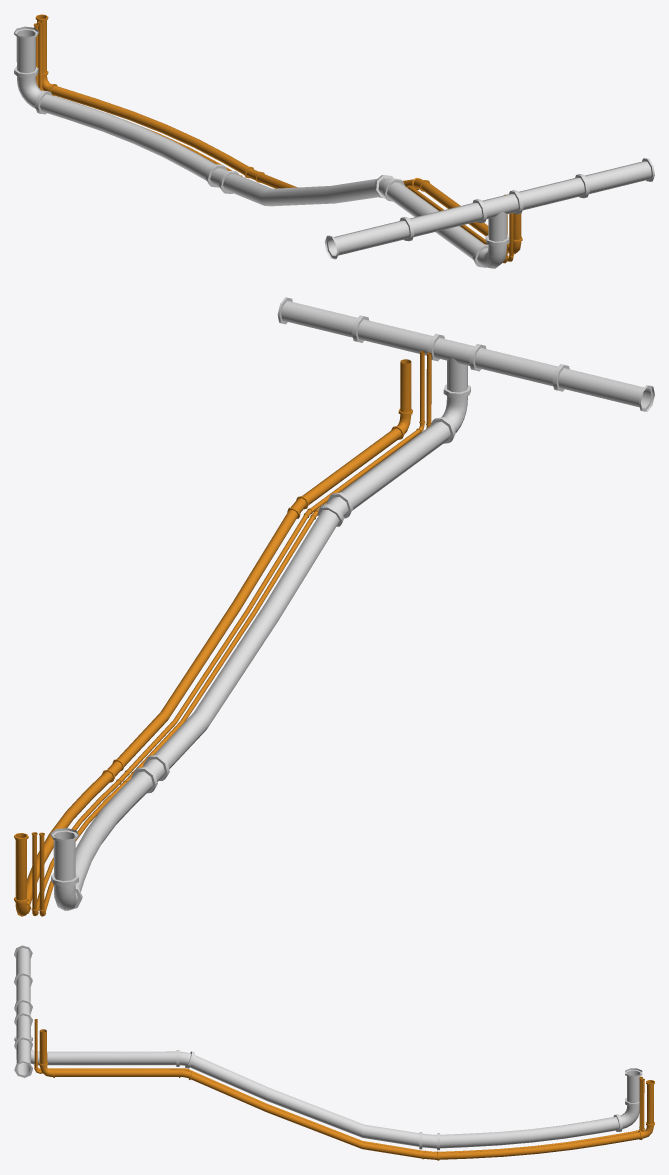
The model's file is SM_H_Building_Tide_Waterway_09c_ATLAS.fbx.
3 renders of one model, top to bottom at view 1: azimuth 30°, elevation 25°; view 2: azimuth 150°, elevation 25°; view 3: azimuth 270°, elevation 25°, orthographic. The views are drawn at different scales.
Visible parts, largest first — view 1: SM_H_Building_Tide_Waterway_09c_ATLAS; view 2: SM_H_Building_Tide_Waterway_09c_ATLAS; view 3: SM_H_Building_Tide_Waterway_09c_ATLAS.
Part boxes in pixels (box(x1,y1,x2,y2)): SM_H_Building_Tide_Waterway_09c_ATLAS: box(14, 14, 654, 268); SM_H_Building_Tide_Waterway_09c_ATLAS: box(14, 297, 654, 916); SM_H_Building_Tide_Waterway_09c_ATLAS: box(14, 945, 654, 1160).
Size of the model in its own units: 1392 by 3246 by 817.
